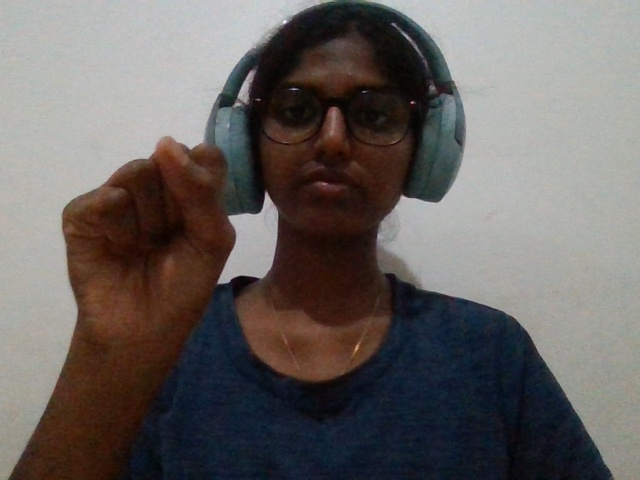Yes: (42, 128, 244, 403)
